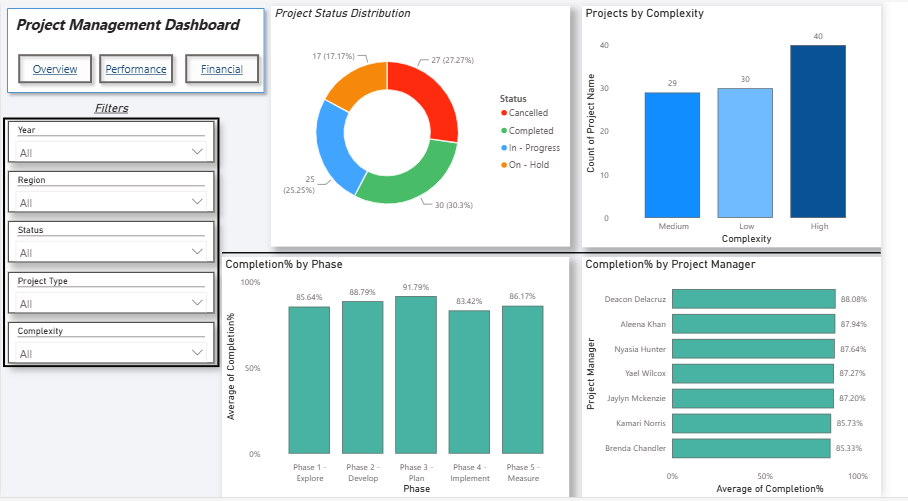

This screenshot's page, from the dashboard's own definition file:
{"tool":"powerbi","page":{"name":"Project Performance","canvas":[1280,720],"ordinal":1},"visuals":[{"type":"shape","box":[0,0,392.1,141.2],"z":0},{"type":"textbox","box":[15.7,13.3,355,47.1],"z":1000},{"type":"actionButton","box":[133.9,66.4,125.5,60.3],"z":2000},{"type":"actionButton","box":[259.4,66.4,125.5,60.3],"z":3000},{"type":"actionButton","box":[15.7,66.4,125.5,60.3],"z":4000},{"type":"shape","title":"Filters","box":[3.6,143.4,314.9,387.3],"z":5000},{"type":"slicer","fields":{"Values":["Project Management Dataset.Year"]},"box":[10.9,172.6,300.4,60],"z":6000},{"type":"slicer","fields":{"Values":["Project Management Dataset.Region"]},"box":[10.9,245.9,300.4,60],"z":7000},{"type":"slicer","fields":{"Values":["Project Management Dataset.Status"]},"box":[9.7,319.2,300.4,60],"z":8000},{"type":"slicer","fields":{"Values":["Project Management Dataset.Project Type"]},"box":[10.9,392.5,300.4,60],"z":9000},{"type":"slicer","fields":{"Values":["Project Management Dataset.Complexity"]},"box":[10.9,465.8,300.4,60],"z":10000},{"type":"donutChart","title":"Project Status Distribution","fields":{"Category":["Project Management Dataset.Status"],"Y":["CountNonNull(Project Management Dataset.Project Name)"]},"box":[392.1,6,435,349.9],"z":11000},{"type":"columnChart","title":"Projects by Complexity","fields":{"Category":["Project Management Dataset.Complexity"],"Y":["CountNonNull(Project Management Dataset.Project Name)"]},"box":[844.5,6,435.5,351.1],"z":12000},{"type":"barChart","title":"Completion% by Project Manager","fields":{"Category":["Project Management Dataset.Project Manager"],"Y":["Avg(Project Management Dataset.Completion%)"]},"box":[844.5,370.4,435.5,349.9],"z":13000},{"type":"columnChart","title":"Completion% by Phase","fields":{"Category":["Project Management Dataset.Phase"],"Y":["Avg(Project Management Dataset.Completion%)"]},"box":[322.1,370.4,505.5,349.9],"z":14000},{"type":"shape","box":[322.1,359.5,957.9,10.9],"z":15000}]}

Visuals, with their boxes in screenshot pixels (x1, y1, x2, y2), scaled from the page's 1280x720 canvas onto the 908x501 screenshot:
shape: x1=0, y1=0, x2=278, y2=98
textbox: x1=11, y1=9, x2=263, y2=42
actionButton: x1=95, y1=46, x2=184, y2=88
actionButton: x1=184, y1=46, x2=273, y2=88
actionButton: x1=11, y1=46, x2=100, y2=88
"Filters" shape: x1=3, y1=100, x2=226, y2=369
slicer - Project Management Dataset.Year: x1=8, y1=120, x2=221, y2=162
slicer - Project Management Dataset.Region: x1=8, y1=171, x2=221, y2=213
slicer - Project Management Dataset.Status: x1=7, y1=222, x2=220, y2=264
slicer - Project Management Dataset.Project Type: x1=8, y1=273, x2=221, y2=315
slicer - Project Management Dataset.Complexity: x1=8, y1=324, x2=221, y2=366
"Project Status Distribution" donutChart: x1=278, y1=4, x2=587, y2=248
"Projects by Complexity" columnChart: x1=599, y1=4, x2=907, y2=248
"Completion% by Project Manager" barChart: x1=599, y1=258, x2=907, y2=500
"Completion% by Phase" columnChart: x1=228, y1=258, x2=587, y2=500
shape: x1=228, y1=250, x2=907, y2=258
